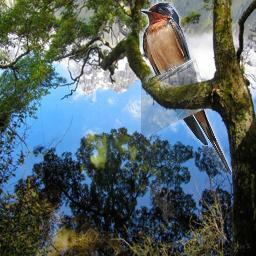Swallow: (141, 1, 232, 175)
